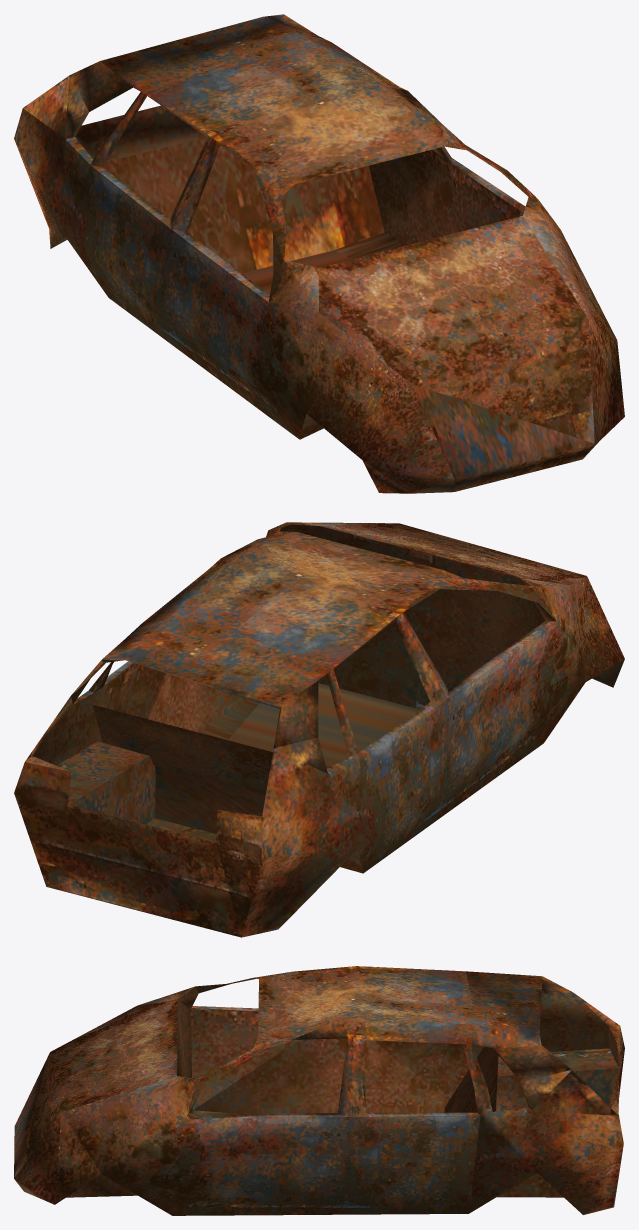
The model's file is Prop_Wj033_lod2.glb.
3 views of the same model, one above another, from view 1: azimuth 30°, elevation 25°; view 2: azimuth 150°, elevation 25°; view 3: azimuth 270°, elevation 25° (orthographic). The views are drawn at different scales.
Visible parts, largest first — view 1: xiutz_wj033_lod2; view 2: xiutz_wj033_lod2; view 3: xiutz_wj033_lod2.
Part boxes in pixels (x1=…): xiutz_wj033_lod2: x1=14, y1=14, x2=624, y2=493; xiutz_wj033_lod2: x1=14, y1=522, x2=624, y2=937; xiutz_wj033_lod2: x1=14, y1=966, x2=624, y2=1215.
Size of the model in its own units: 2.29 by 1.68 by 5.14.
Materials: 1 (1 with a texture image).
